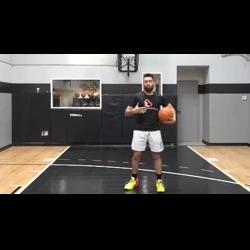BasketBall: (156, 102, 177, 125)
